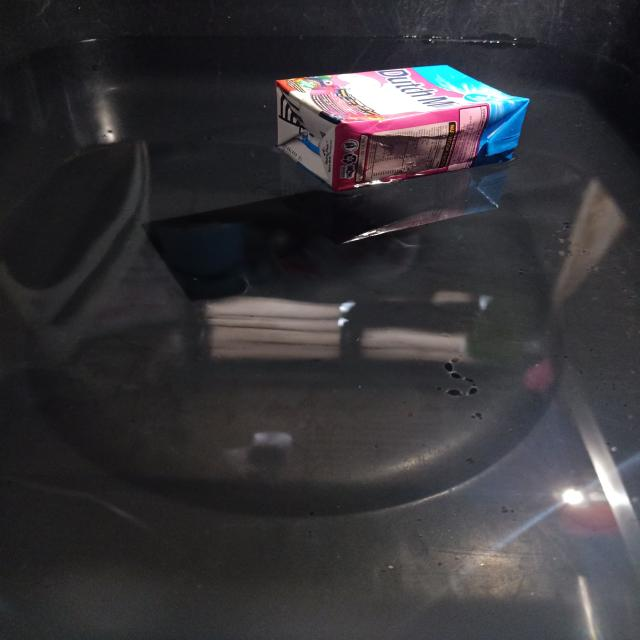Cardboard Box: (275, 65, 528, 192)
